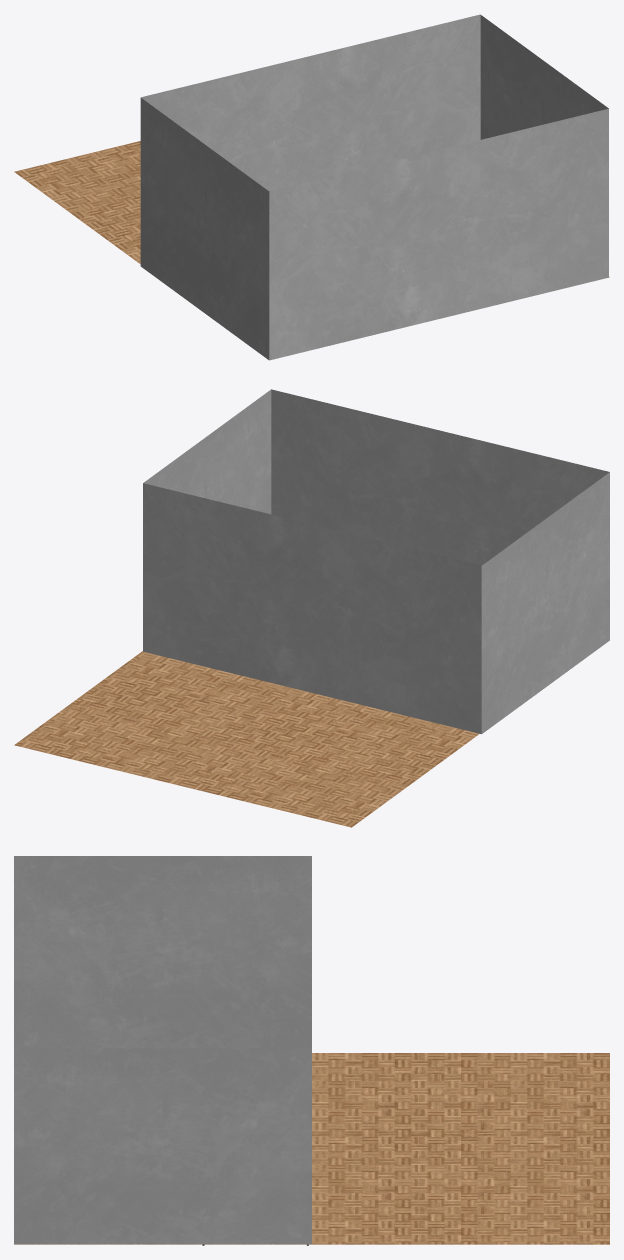
File: bedroom_secondwall.fbx
3 renders of one model, top to bottom at view 1: azimuth 30°, elevation 25°; view 2: azimuth 150°, elevation 25°; view 3: azimuth 270°, elevation 25°, orthographic. The views are drawn at different scales.
Parts seen in each view (by area): view 1: wall1, wall, apartment_floor_interior; view 2: wall, wall1, apartment_floor_interior; view 3: wall, apartment_floor_interior, wall1.
Boxes of the visible parts, box(x1,y1,x2,y2) form: wall1: box(140, 98, 608, 360); wall: box(141, 14, 608, 191); apartment_floor_interior: box(14, 141, 609, 277); wall: box(143, 389, 481, 733); wall1: box(271, 389, 609, 733); apartment_floor_interior: box(14, 651, 479, 827); wall: box(14, 1048, 311, 1244); apartment_floor_interior: box(14, 1053, 609, 1244); wall1: box(14, 856, 311, 1048).
Size of the model in its own units: 1734 by 839 by 2267.
Materials: 9 (9 with a texture image).
